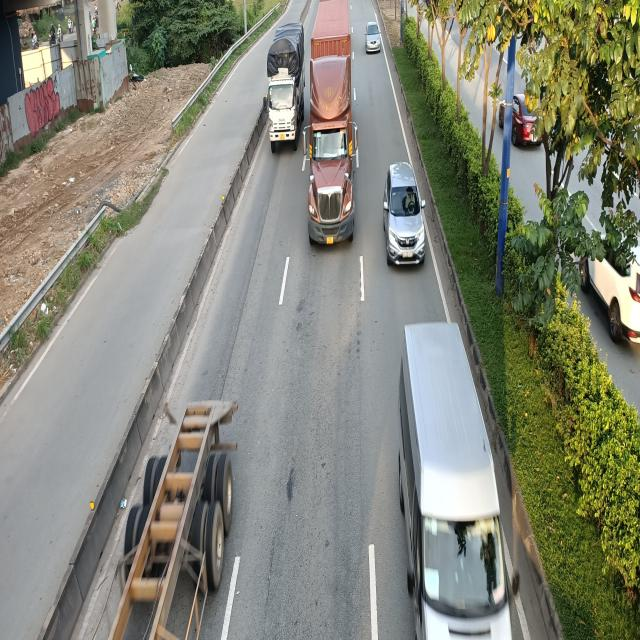car: (385, 162, 428, 268), (366, 21, 383, 53)
container: (102, 402, 238, 640), (302, 2, 356, 246)
truck: (264, 24, 305, 151)
van: (395, 326, 518, 640)
